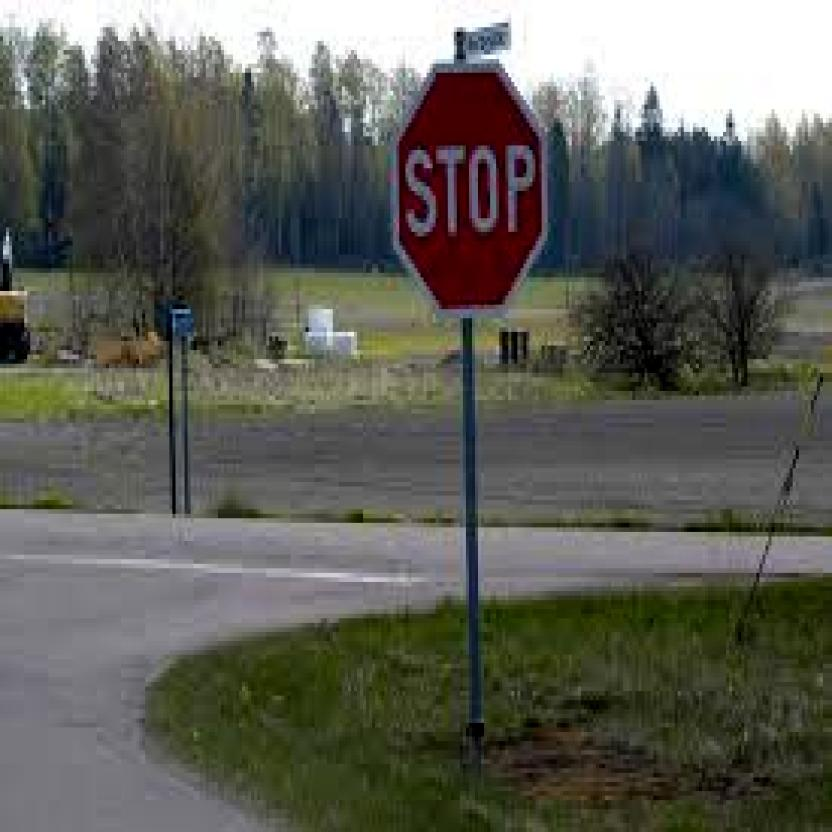Pole: (461, 318, 480, 725)
Sign: (396, 59, 548, 318)
